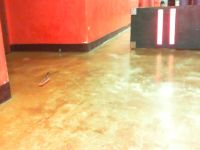switch: (156, 8, 164, 45), (168, 8, 176, 45)
